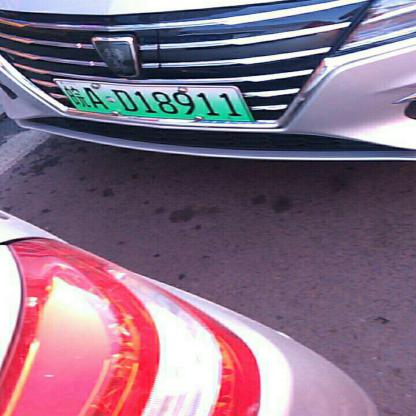lp: (53, 77, 77, 122)
